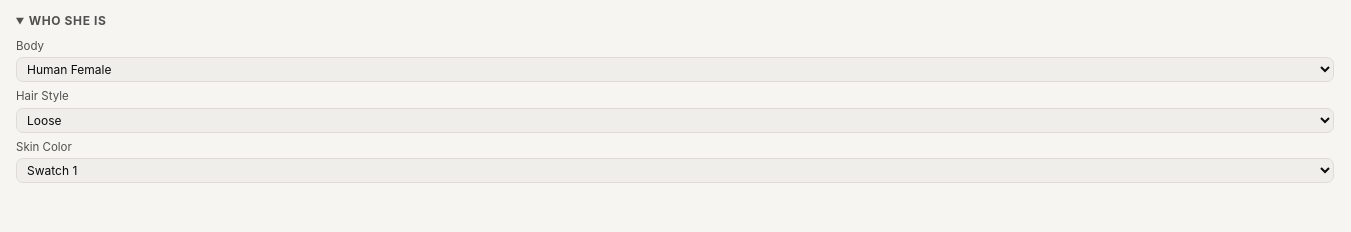
Scenario: Herself › says why when an answer will not store, and does not report a change
Select "Braided" in the dropdown labelled "Hair Style" at coordinates (675, 120), box [16,108,1334,132]
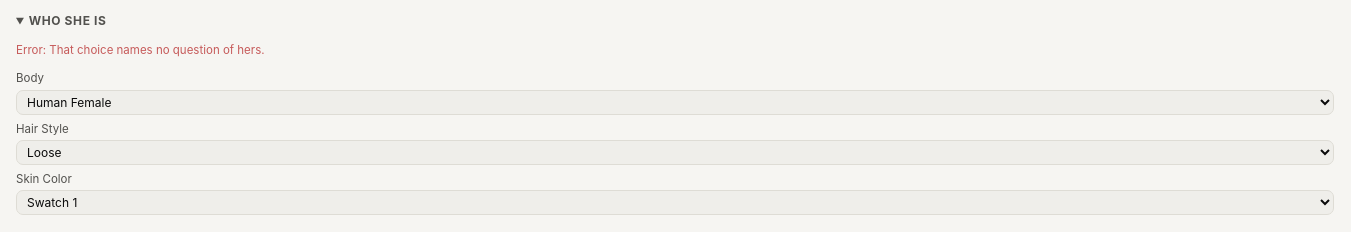
Expected: the message shows "names no question", [16,42,264,56]
